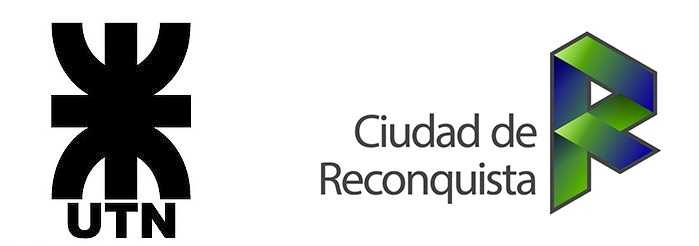utn: (46, 12, 197, 202)
